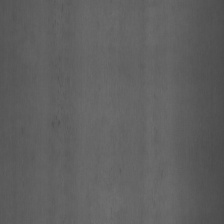silk_spot: (50, 55, 73, 147)
